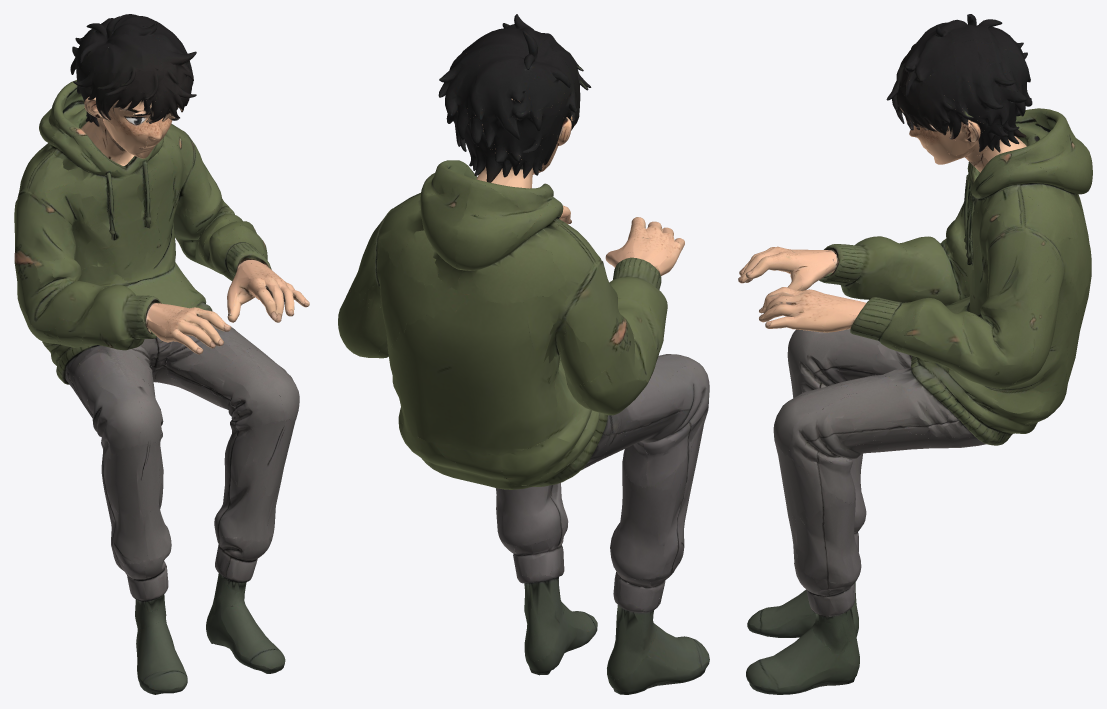
File: typer.glb
3 renders of one model, left to right at view 1: azimuth 30°, elevation 25°; view 2: azimuth 150°, elevation 25°; view 3: azimuth 270°, elevation 25°, orthographic. The views are drawn at different scales.
Parts seen in each view (by area): view 1: CH_DeskTyper; view 2: CH_DeskTyper; view 3: CH_DeskTyper.
Boxes of the visible parts, x1=… form: CH_DeskTyper: x1=14, y1=14, x2=309, y2=694; CH_DeskTyper: x1=338, y1=14, x2=709, y2=694; CH_DeskTyper: x1=738, y1=14, x2=1092, y2=694.
Size of the model in its own units: 0.5672 by 1.38 by 0.6907.
1 material, 1 textured.
